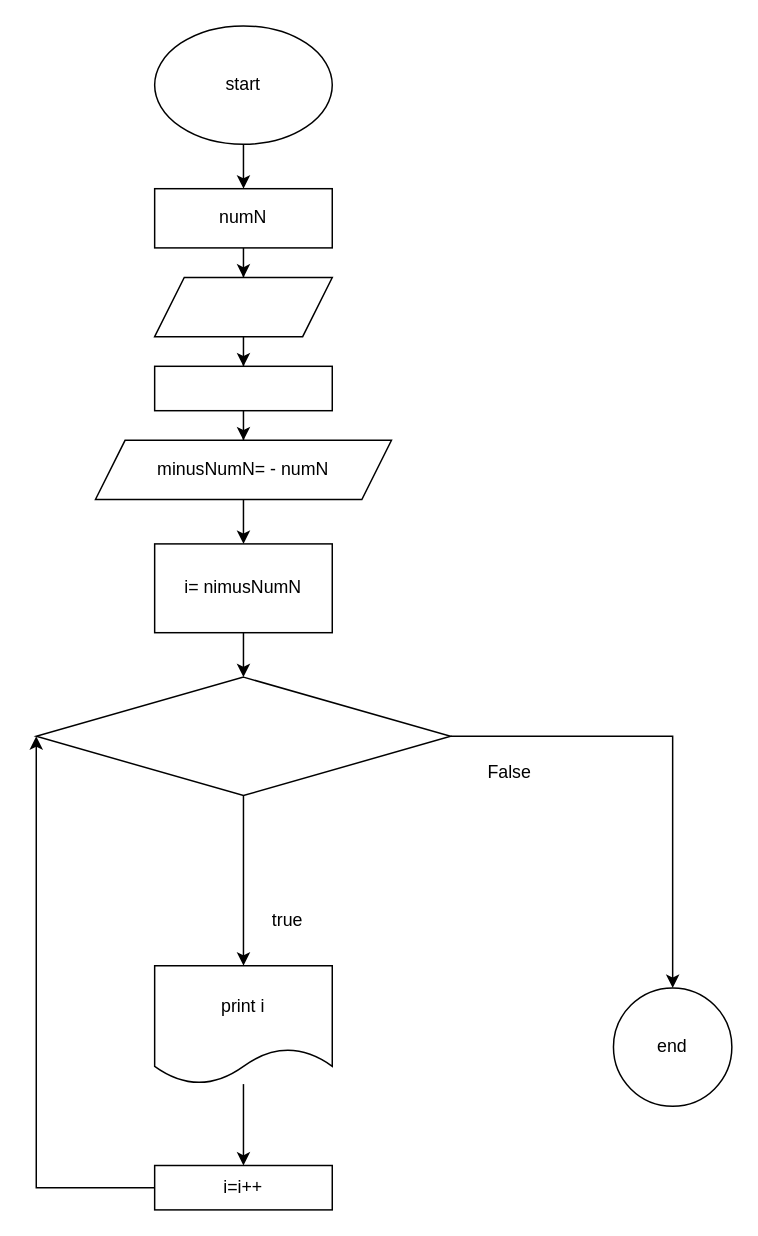
The diagram is 758 pixels wide and 1236 high, and some of its shapes have lost their labels. The centre of each missing label's shape, as x and y in pixels:
i<=N;: (x=243, y=736)
minusNumN: (x=242, y=388)
numN = N;: (x=242, y=306)
